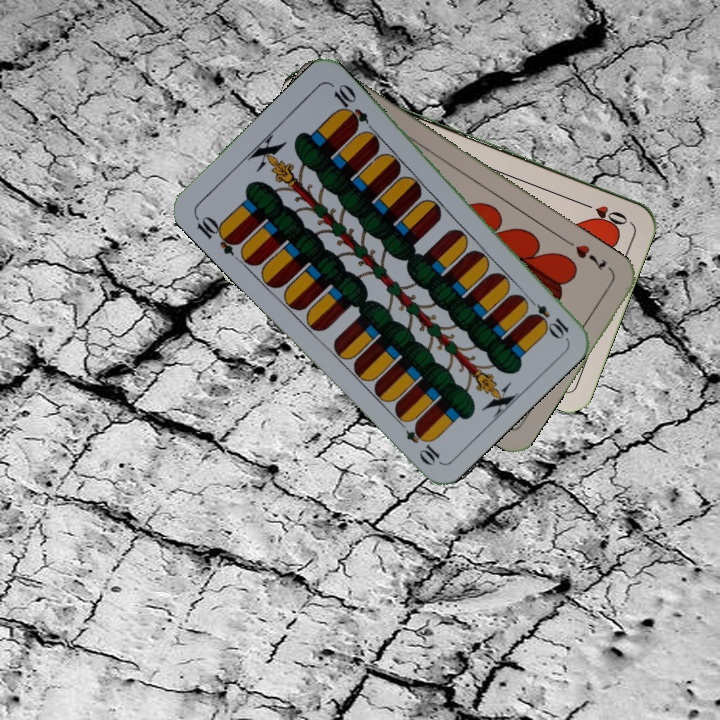E10: (190, 211, 243, 258), (522, 293, 572, 341)
H7: (571, 240, 609, 274)
HO: (575, 197, 631, 227)
